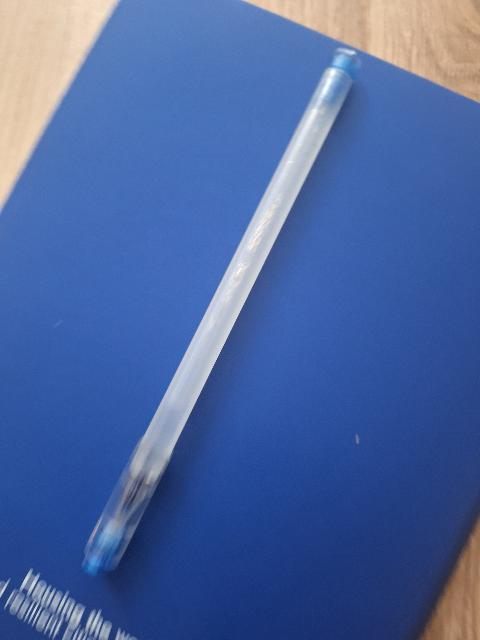writing_tool: (72, 53, 362, 569)
